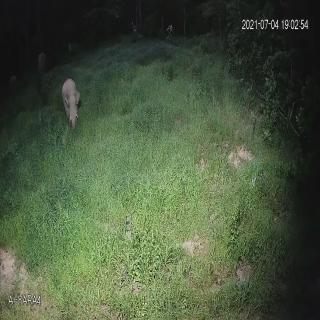Elephant: (61, 74, 81, 131)
